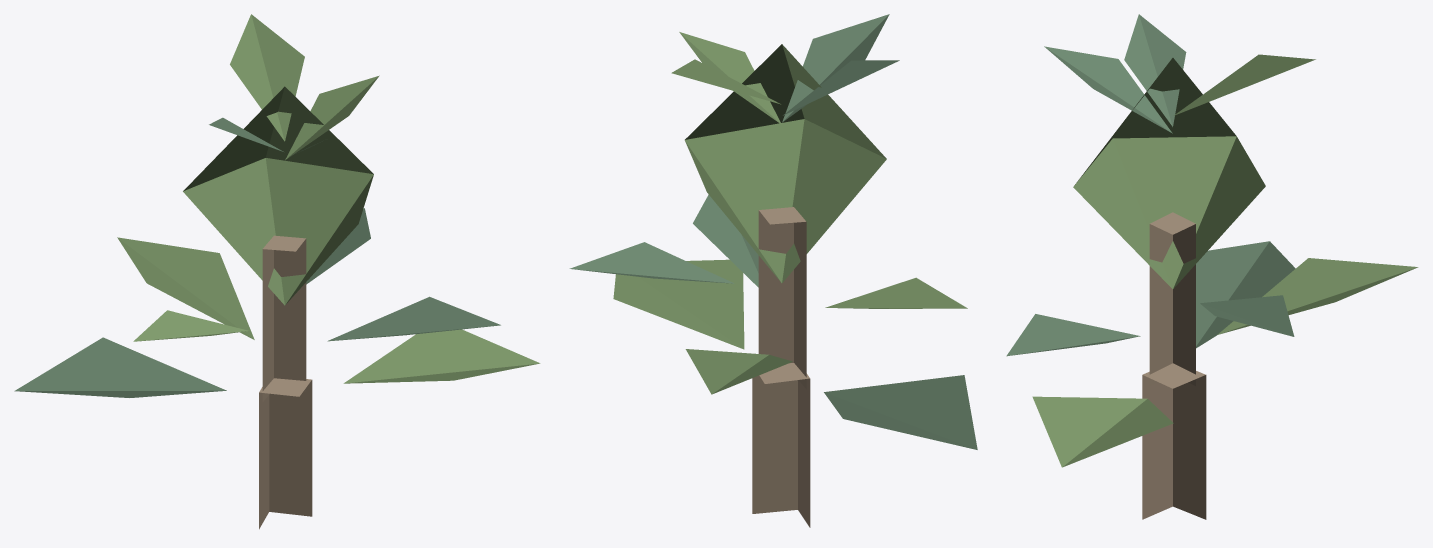
Rendered from shu.masan@seedling__spring.glb.
The picture shows the model from 3 angles, left to right: view 1: azimuth 30°, elevation 25°; view 2: azimuth 150°, elevation 25°; view 3: azimuth 270°, elevation 25°; orthographic projection. The views are drawn at different scales.
Parts seen in each view (by area): view 1: shu.masan@seedling__spring; view 2: shu.masan@seedling__spring; view 3: shu.masan@seedling__spring.
Boxes of the visible parts, x1,y1,x2,y2 form: shu.masan@seedling__spring: (14, 14, 540, 529); shu.masan@seedling__spring: (569, 14, 977, 527); shu.masan@seedling__spring: (1006, 14, 1418, 519).
Bounding box in the file's own units: 1.63 × 1.65 × 1.29.
